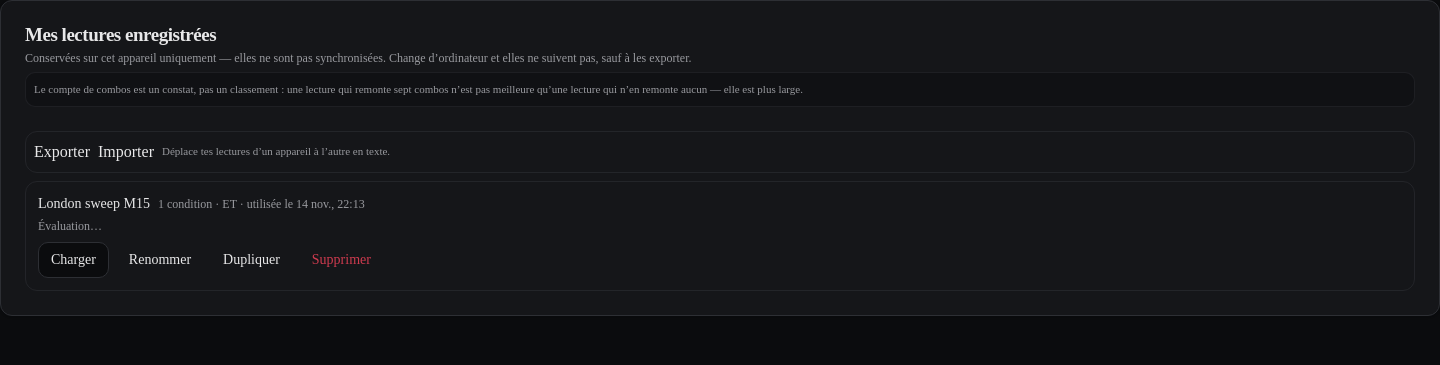
Test: StrategyPanel › surfaces an honest error when a mutation is refused (cap reached)
The width and height of the screenshot is (1440, 365).
Click the button "Dupliquer". click: coordinates (252, 260)
box: x1=211 y1=242 x2=292 y2=278
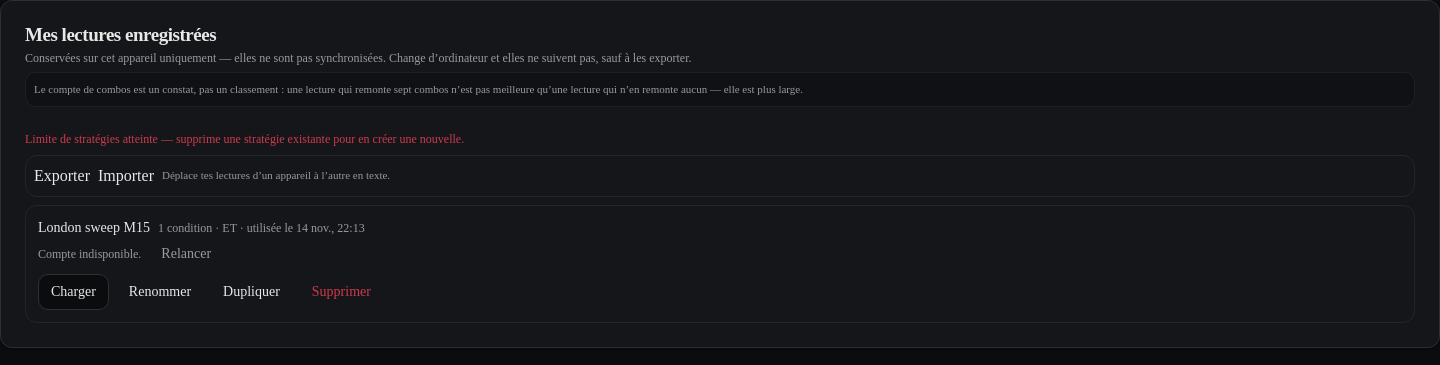
Result: the message shows "Limite de stratégies atteinte" at x1=25 y1=132 x2=464 y2=146
